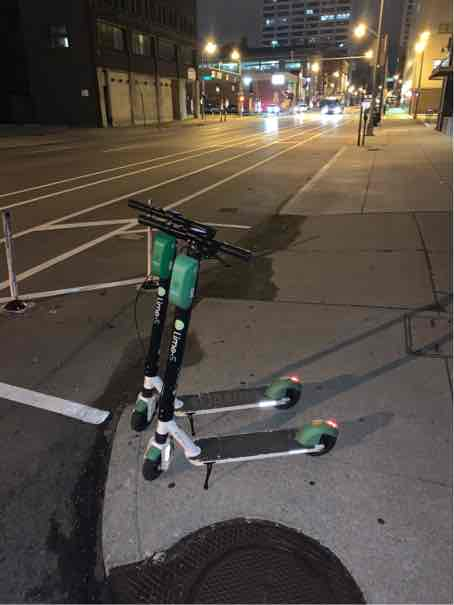too close: (107, 388, 172, 443)
